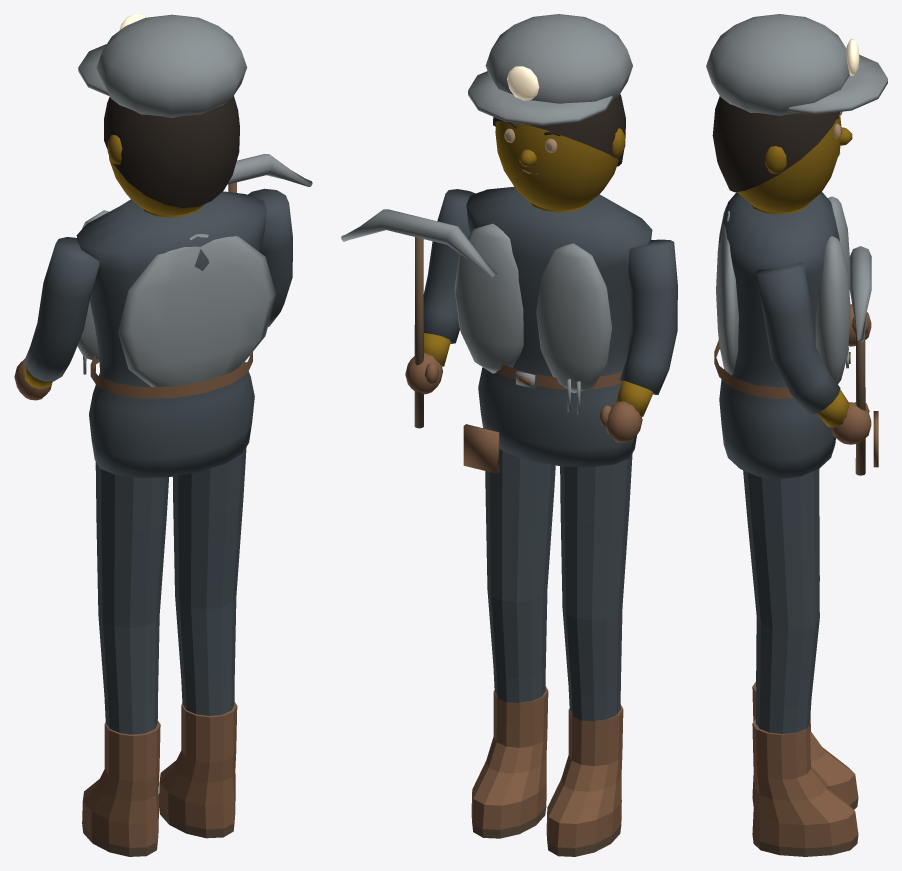
Rendered from SM_NPC_GLACIAR.glb.
3 views of the same model, side by side, from view 1: azimuth 30°, elevation 25°; view 2: azimuth 150°, elevation 25°; view 3: azimuth 270°, elevation 25° (orthographic). The views are drawn at different scales.
Parts seen in each view (by area): view 1: SM_NPC_GLACIAR_BODY, SM_NPC_GLACIAR_LEG_L, SM_NPC_GLACIAR_HAIR, SM_NPC_GLACIAR_LEG_R, SM_NPC_GLACIAR_ARM_L, SM_NPC_GLACIAR_ARM_R, SM_NPC_GLACIAR_HEAD; view 2: SM_NPC_GLACIAR_BODY, SM_NPC_GLACIAR_LEG_L, SM_NPC_GLACIAR_LEG_R, SM_NPC_GLACIAR_HAIR, SM_NPC_GLACIAR_ARM_R, SM_NPC_GLACIAR_ARM_L, SM_NPC_GLACIAR_HEAD; view 3: SM_NPC_GLACIAR_BODY, SM_NPC_GLACIAR_LEG_R, SM_NPC_GLACIAR_HAIR, SM_NPC_GLACIAR_ARM_R, SM_NPC_GLACIAR_HEAD, SM_NPC_GLACIAR_LEG_L, SM_NPC_GLACIAR_ARM_L.
Part boxes in pixels (<box>): SM_NPC_GLACIAR_BODY: <box>76,191,275,477</box>; SM_NPC_GLACIAR_LEG_L: <box>82,461,168,856</box>; SM_NPC_GLACIAR_HAIR: <box>78,14,247,207</box>; SM_NPC_GLACIAR_LEG_R: <box>159,447,246,838</box>; SM_NPC_GLACIAR_ARM_L: <box>14,237,99,400</box>; SM_NPC_GLACIAR_ARM_R: <box>227,154,312,326</box>; SM_NPC_GLACIAR_HEAD: <box>107,118,239,215</box>; SM_NPC_GLACIAR_BODY: <box>454,187,652,473</box>; SM_NPC_GLACIAR_LEG_L: <box>546,453,632,856</box>; SM_NPC_GLACIAR_LEG_R: <box>471,449,555,838</box>; SM_NPC_GLACIAR_HAIR: <box>468,14,632,166</box>; SM_NPC_GLACIAR_ARM_R: <box>341,189,497,428</box>; SM_NPC_GLACIAR_ARM_L: <box>599,239,677,442</box>; SM_NPC_GLACIAR_HEAD: <box>495,121,625,210</box>; SM_NPC_GLACIAR_BODY: <box>714,192,878,478</box>; SM_NPC_GLACIAR_LEG_R: <box>743,469,858,856</box>; SM_NPC_GLACIAR_HAIR: <box>706,14,887,192</box>; SM_NPC_GLACIAR_ARM_R: <box>755,246,871,475</box>; SM_NPC_GLACIAR_HEAD: <box>737,114,852,212</box>; SM_NPC_GLACIAR_LEG_L: <box>752,469,858,809</box>; SM_NPC_GLACIAR_ARM_L: <box>848,304,871,346</box>.
Bounding box in the file's own units: 0.7367 × 1.87 × 0.3848.
